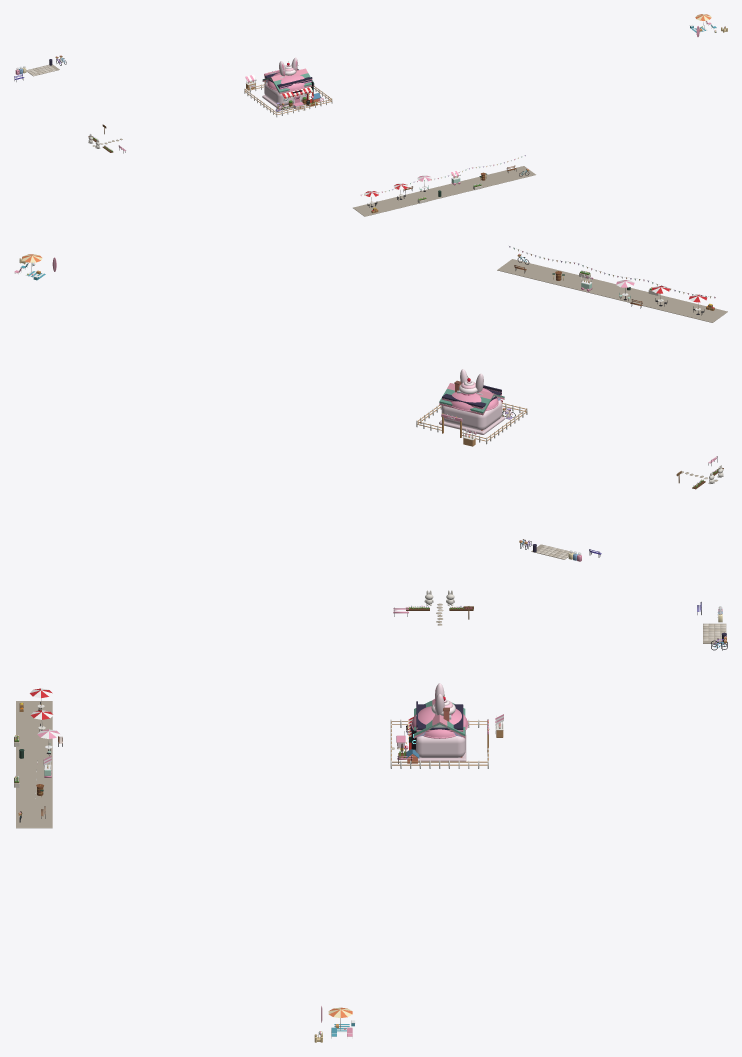
File: world_landmarks-DYAuf7dM.glb
The picture shows the model from 3 angles, top to bottom: view 1: azimuth 30°, elevation 25°; view 2: azimuth 150°, elevation 25°; view 3: azimuth 270°, elevation 25°; orthographic projection. The views are drawn at different scales.
Visible parts, largest first — view 1: food-street__paving, pen__fence, bunny-house__walls; view 2: food-street__paving, bunny-house__walls, pen__fence; view 3: food-street__paving, bunny-house__walls, bunny-house__roof, pen__fence.
Boxes of the visible parts, x1,y1,x2,y2 form: food-street__paving: (353,166,535,216); pen__fence: (244,84,332,117); bunny-house__walls: (262,82,309,109); food-street__paving: (497,259,727,322); bunny-house__walls: (439,400,504,434); pen__fence: (416,403,527,444); food-street__paving: (16,701,52,828); bunny-house__walls: (415,730,466,761); bunny-house__roof: (411,706,468,738); pen__fence: (390,719,488,768).
Bounding box in the file's own units: 108 × 6.98 × 73.78.
221 materials, 2 textured.
